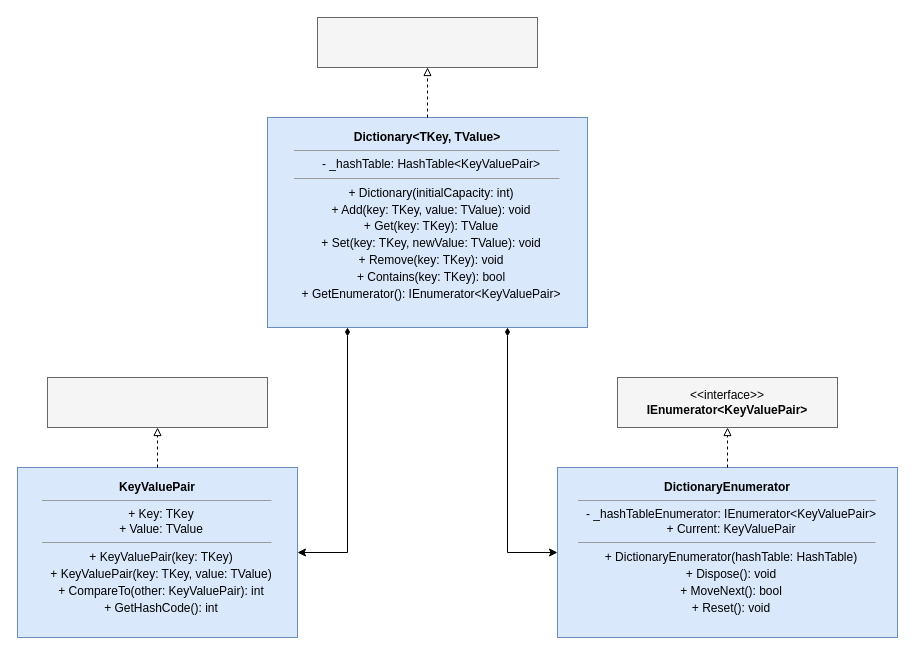
Some shapes in this 915 by 658 pixel diagram are drawn without their labels. Here are the shapes that lost their labels. From the top down, the box of each, then its label:
(316, 16, 538, 68): <<interface>> IEnumerable<KeyValuePair>
(46, 376, 268, 428): <<interface>> IComparable<KeyValuePair>
